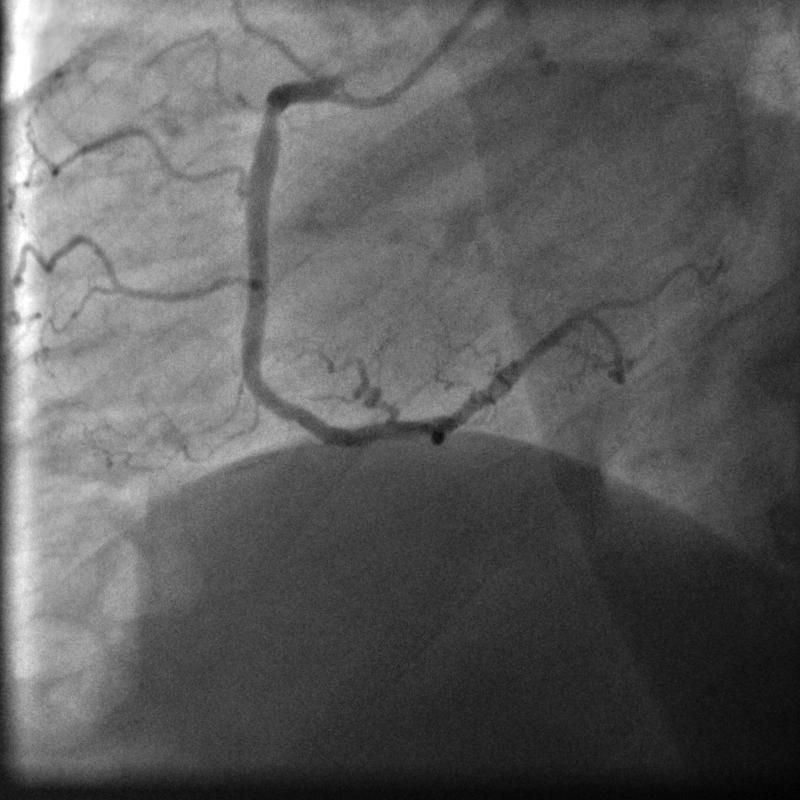Stenosis: (249, 90, 284, 143)
